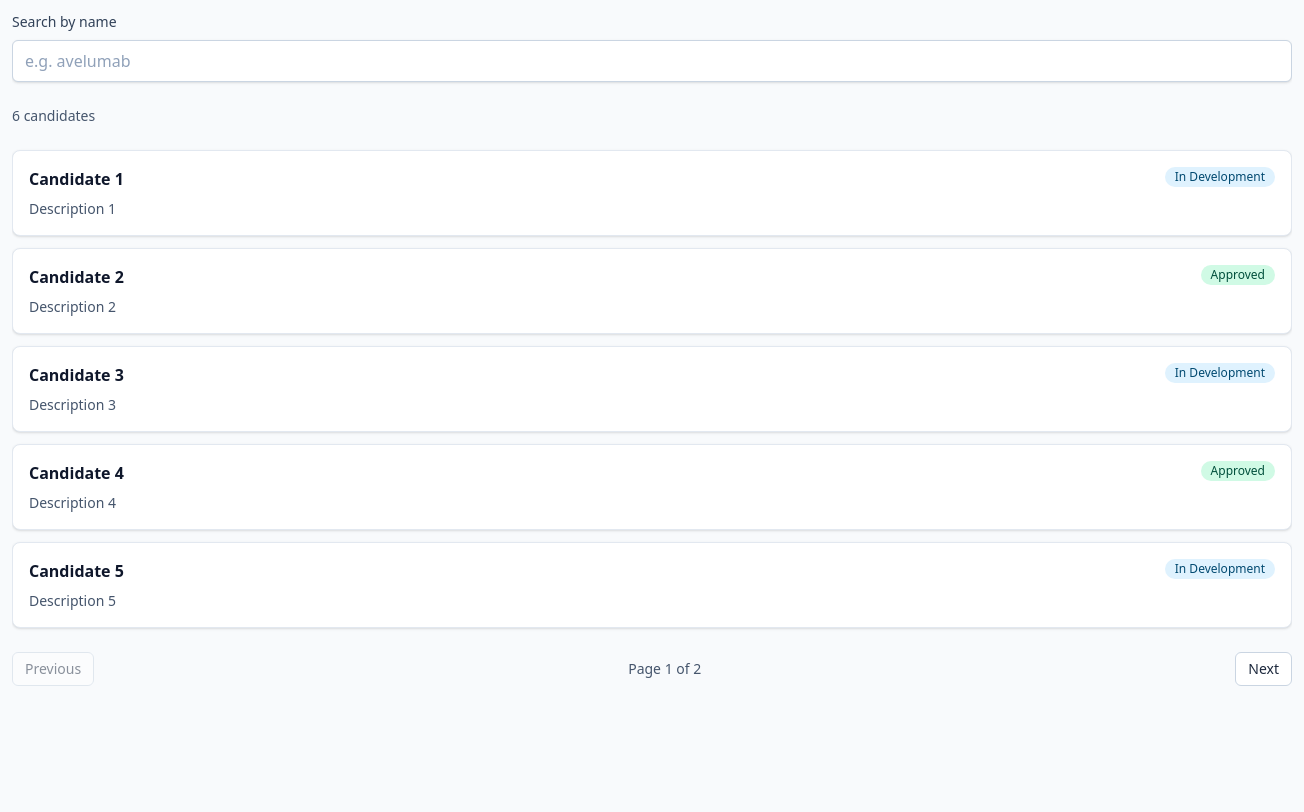
CandidateExplorer › pages through results and resets to the first page on search
Expected: the text "6 candidates" is shown, [12,106,95,125]
Expected: the text "Page 1 of 2" is shown, [628,659,701,679]
Step 1. Click the button "Next" → (1264, 669), box [1235,652,1292,686]
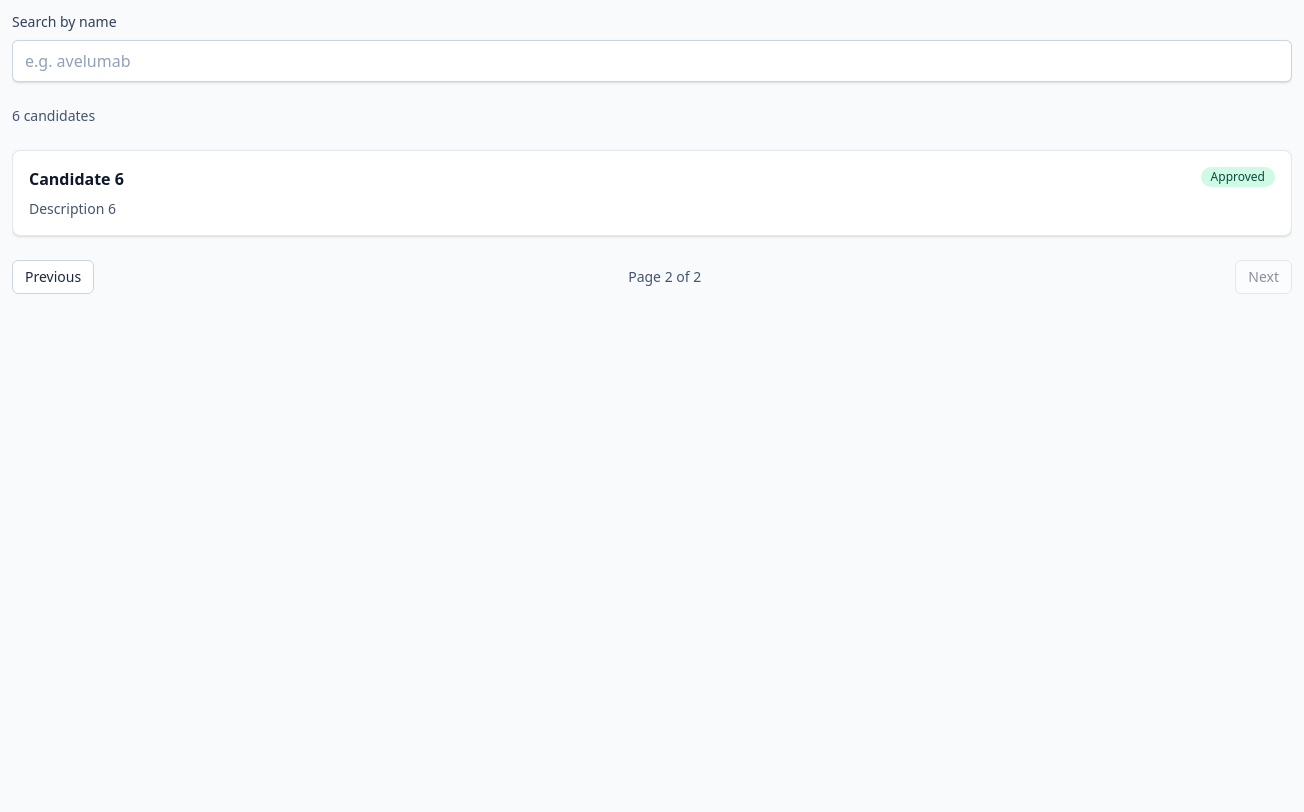
Expected: the text "Page 2 of 2" is shown, [628,267,701,287]
Expected: the button "Next" is disabled, [1235,260,1292,294]
Expected: the link "Candidate 6 Approved Description 6" is shown, [12,150,1292,236]
Step 2. Click the button "Previous" → (53, 277), box [12,260,94,294]
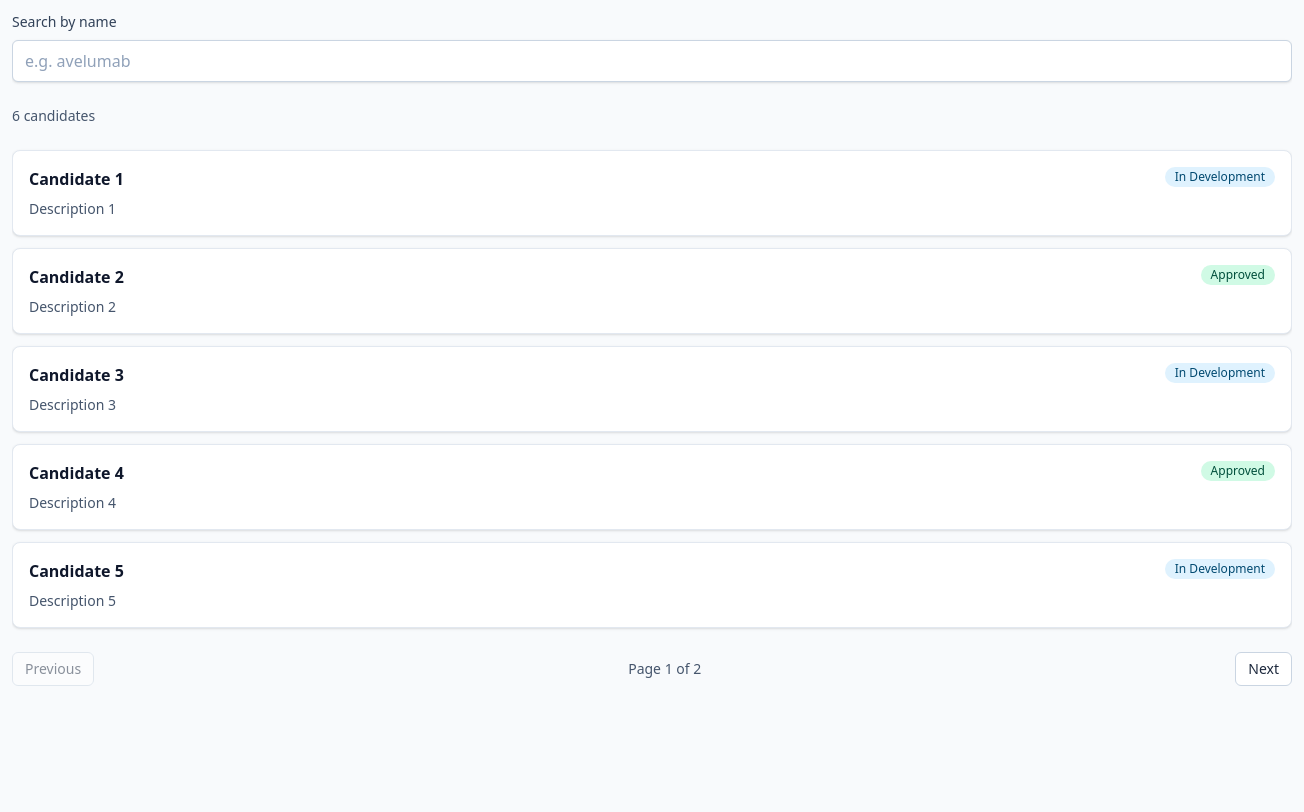
Expected: the text "Page 1 of 2" is shown, [628,659,701,679]
Step 3. Type "Candidate 1" into the search field labelled "Search by name" → (652, 61), box [12,40,1292,82]
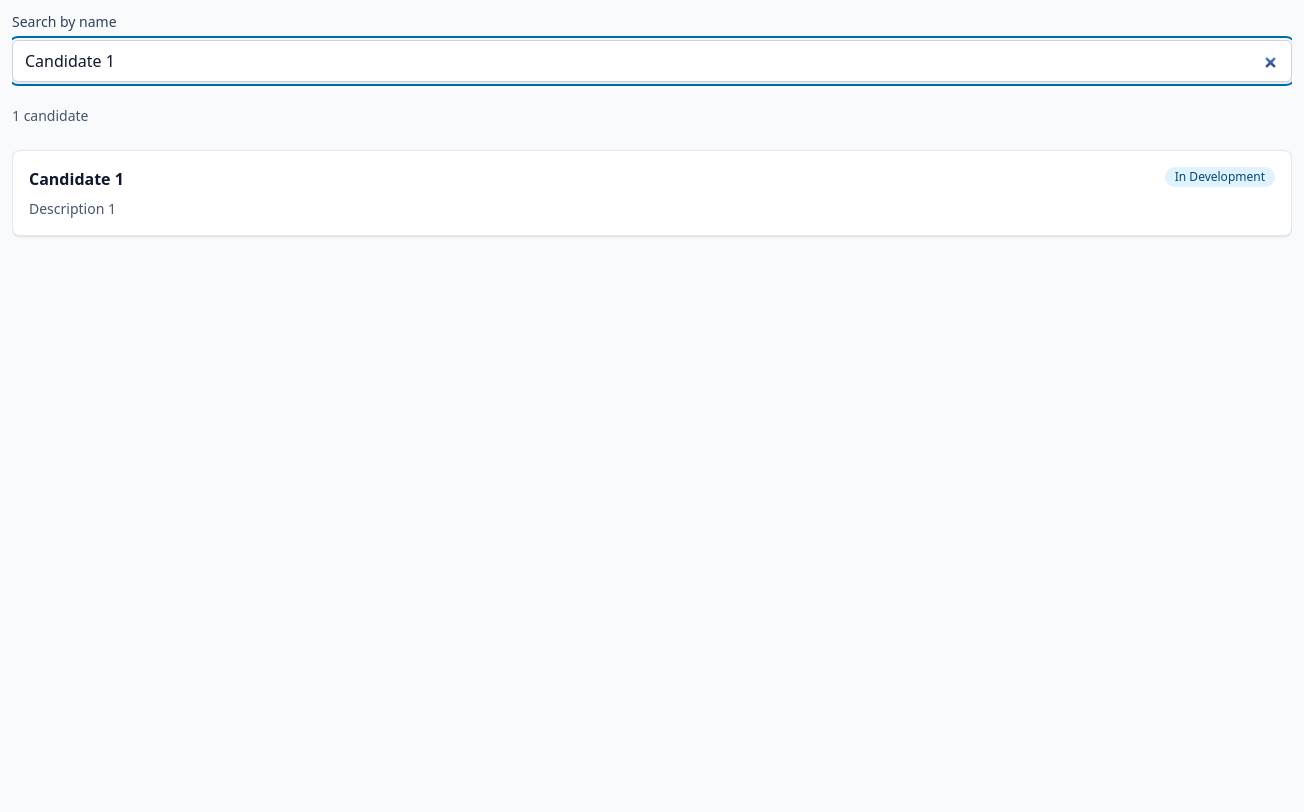
Expected: the text "1 candidate" is shown, [12,106,88,125]
Expected: the text "Page " is gone
